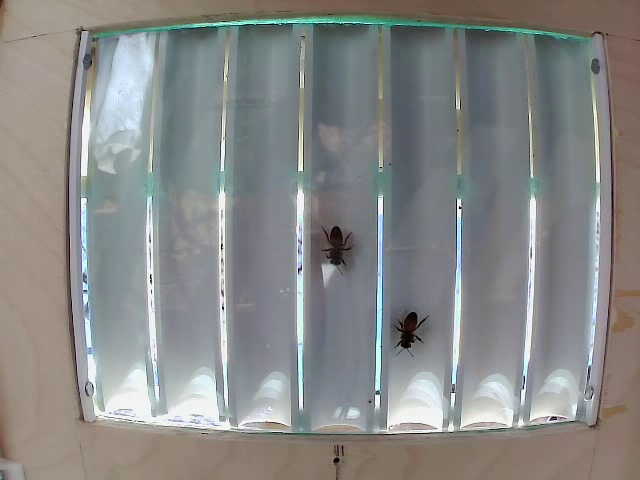bee: (318, 211, 365, 284), (381, 302, 428, 358)
